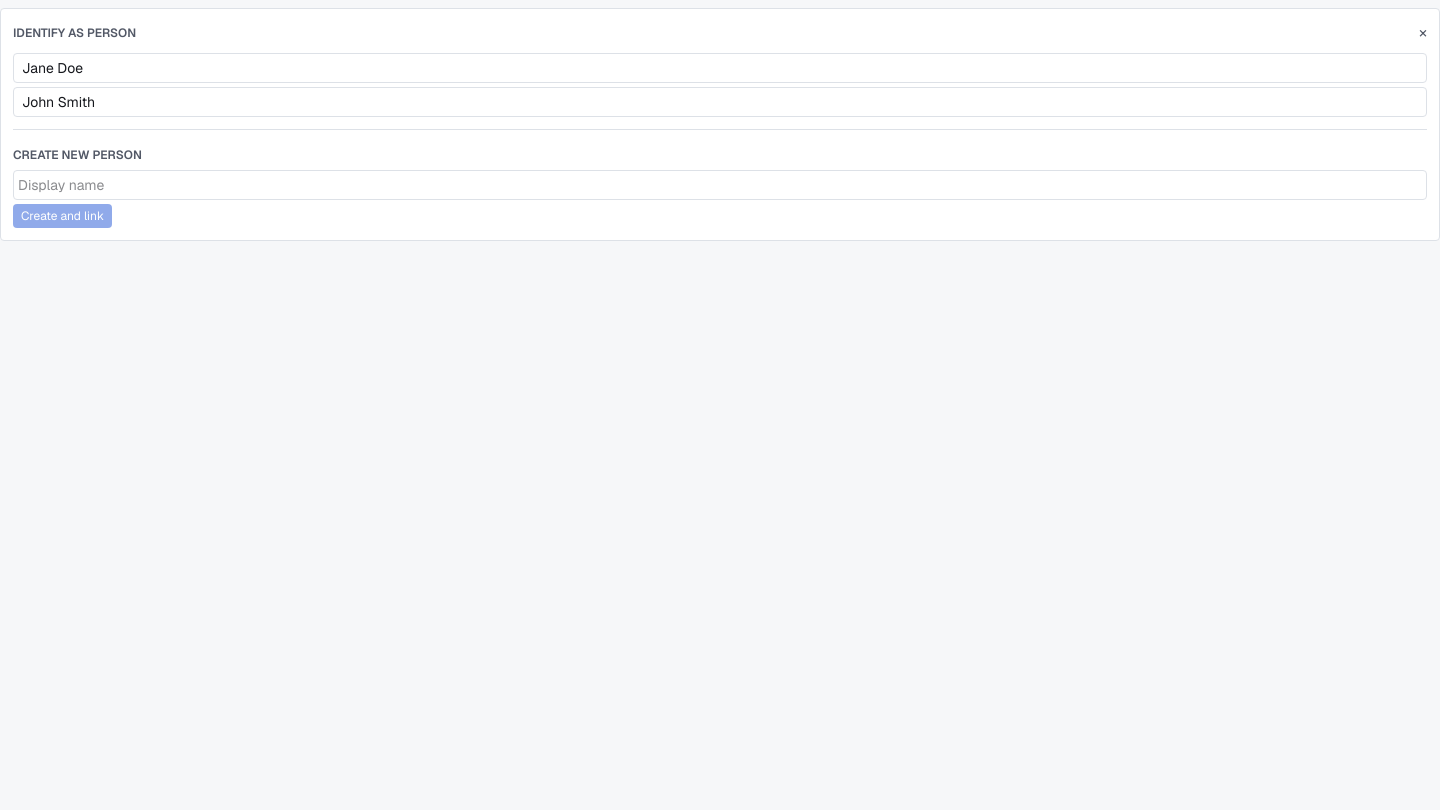
Test: PersonPicker › surfaces a notice (not an unhandled rejection) when derivePersonId rejects
In the field named "New person display name": (720, 185) [13,170,1427,200], type "New Person"
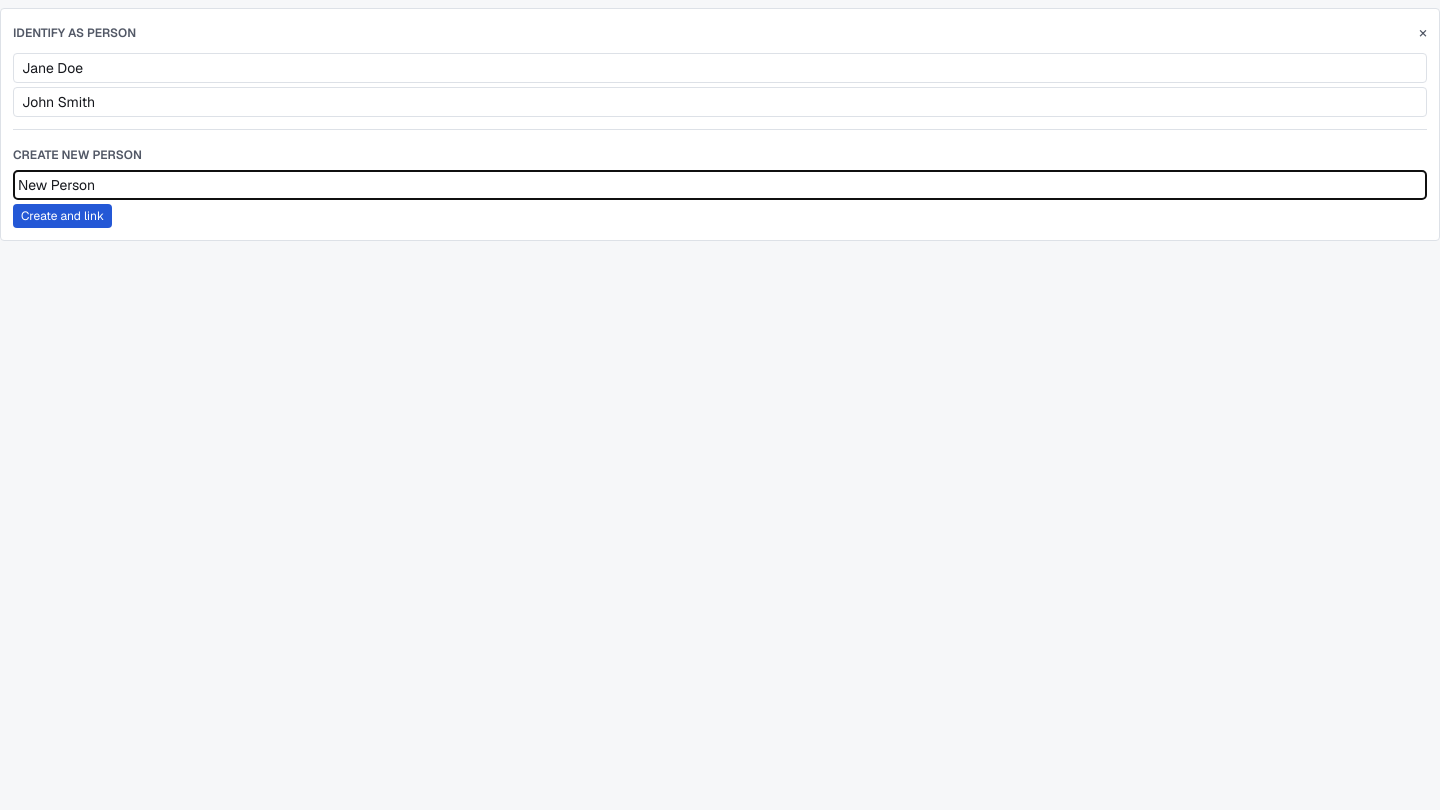
Click the button "Create and link": (63, 216) [13,204,112,228]
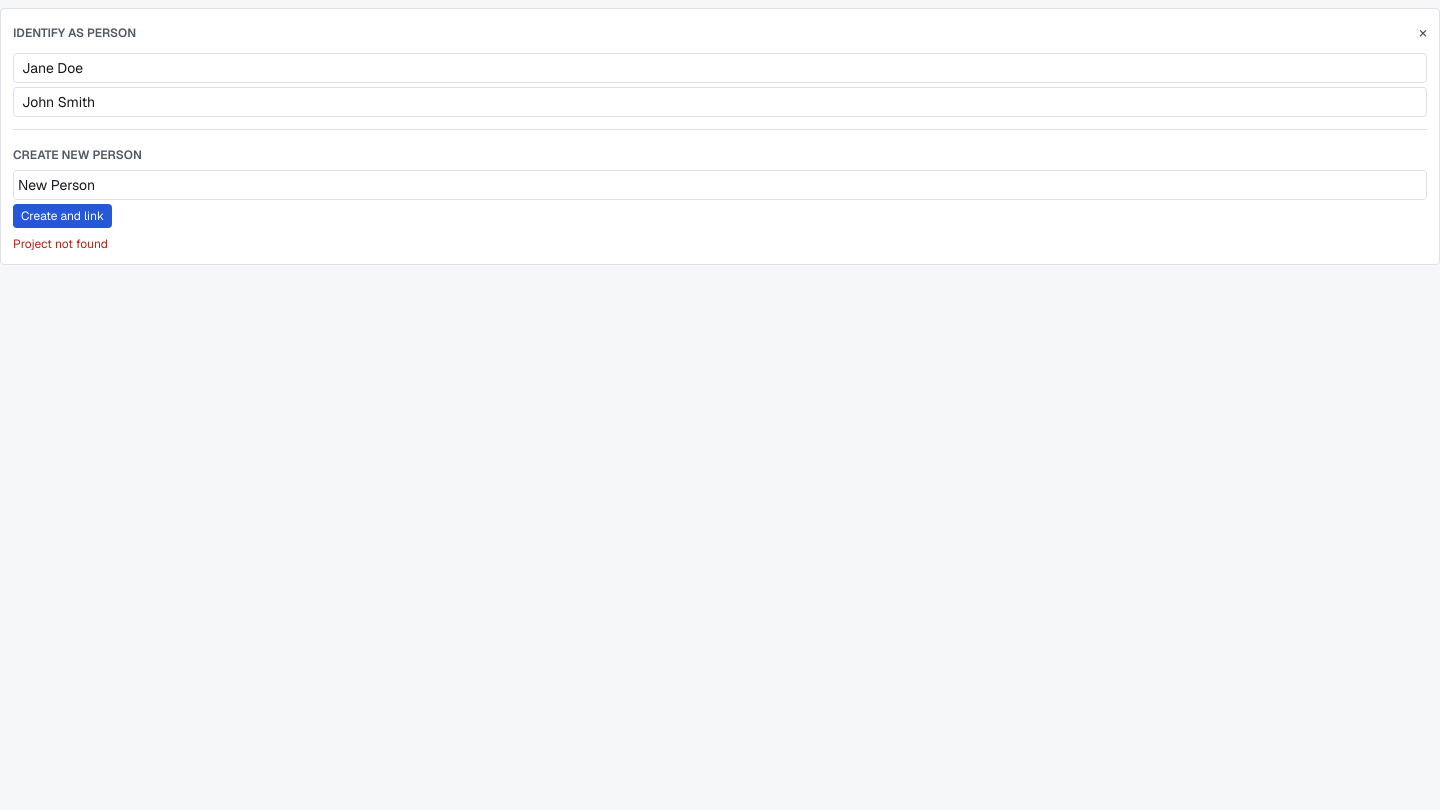
Check: the message reads "Project not found", box [13,236,108,252]
